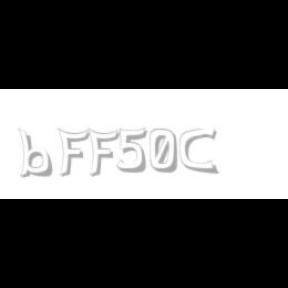0: (150, 128, 180, 174)
5: (116, 128, 148, 174)
C: (180, 128, 216, 174)
F: (57, 128, 89, 178), (87, 128, 119, 178)
b: (18, 128, 56, 178)
